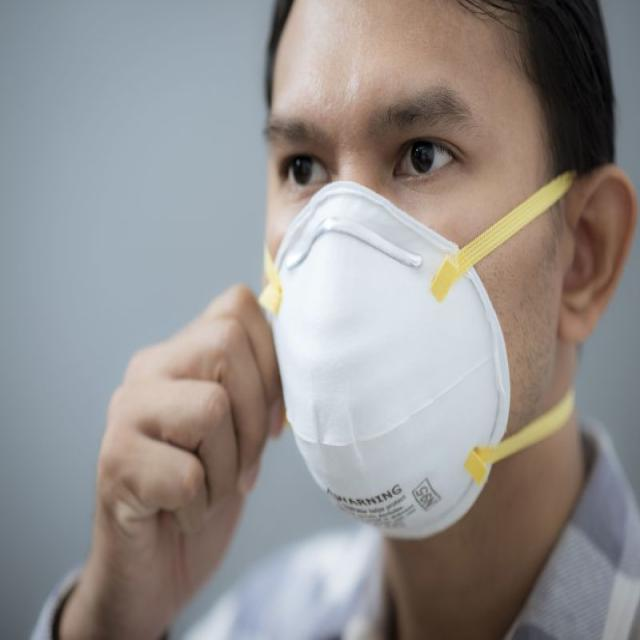1_mascarilla: (257, 168, 577, 542)
